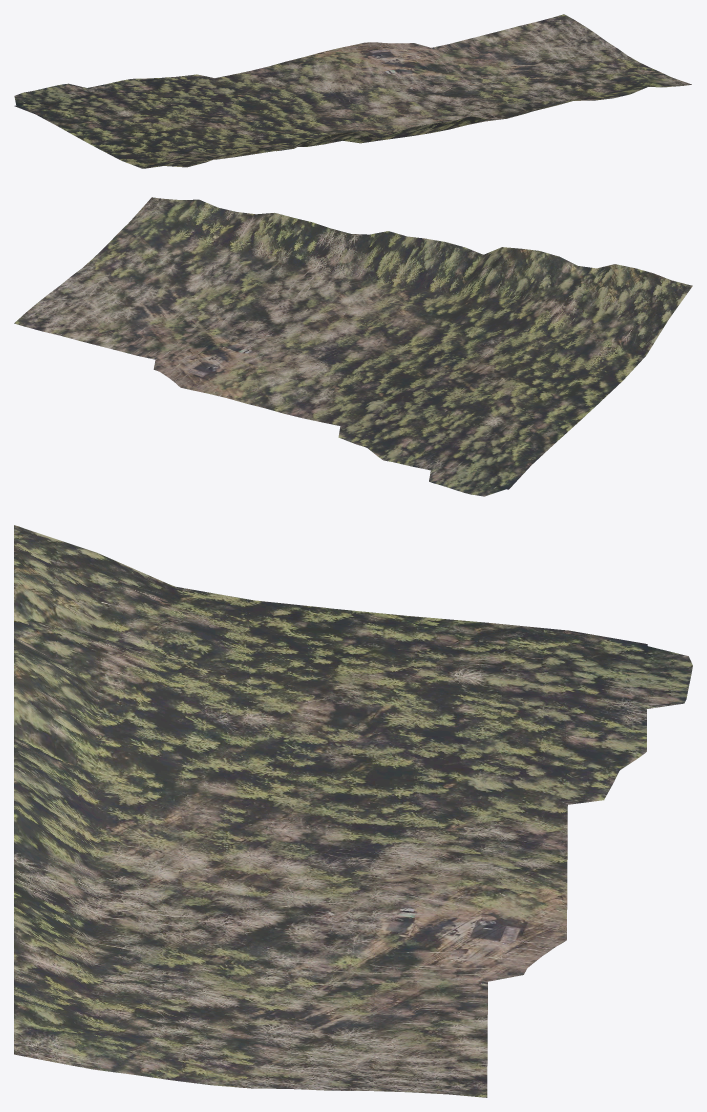
File: CM_Terrain_24490458_6823070.fbx
3 views of the same model, one above another, from view 1: azimuth 30°, elevation 25°; view 2: azimuth 150°, elevation 25°; view 3: azimuth 270°, elevation 25° (orthographic). The views are drawn at different scales.
Visible parts, largest first — view 1: CM_Terrain_24490458_6823070_LOD0; view 2: CM_Terrain_24490458_6823070_LOD0; view 3: CM_Terrain_24490458_6823070_LOD0.
Boxes of the visible parts, x1,y1,x2,y2 form: CM_Terrain_24490458_6823070_LOD0: [14, 14, 691, 168]; CM_Terrain_24490458_6823070_LOD0: [14, 197, 692, 496]; CM_Terrain_24490458_6823070_LOD0: [14, 525, 692, 1097].
Size of what is drawn, in the model's own units: 205 by 26.97 by 129.
